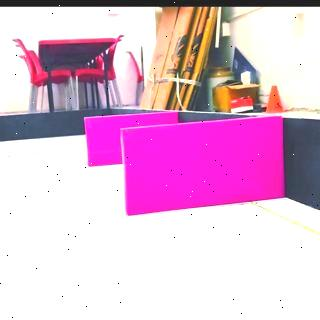xparking: (122, 127, 282, 208)
